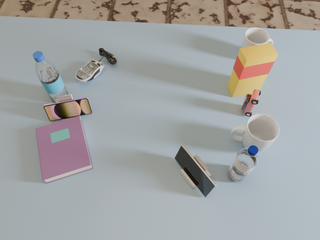book: (36, 116, 93, 183)
bottle: (33, 51, 68, 102), (228, 145, 259, 182)
box: (227, 43, 278, 97)
cup: (231, 114, 279, 152), (241, 28, 273, 48)
mouse: (75, 59, 104, 82)
phone: (175, 145, 216, 197), (44, 97, 92, 121)
toy_car: (241, 89, 261, 116)
